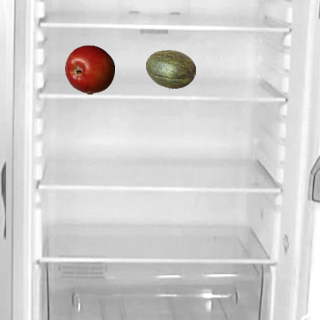Apple Braeburn: (67, 44, 117, 94)
Redcurrant: (73, 44, 123, 94)
